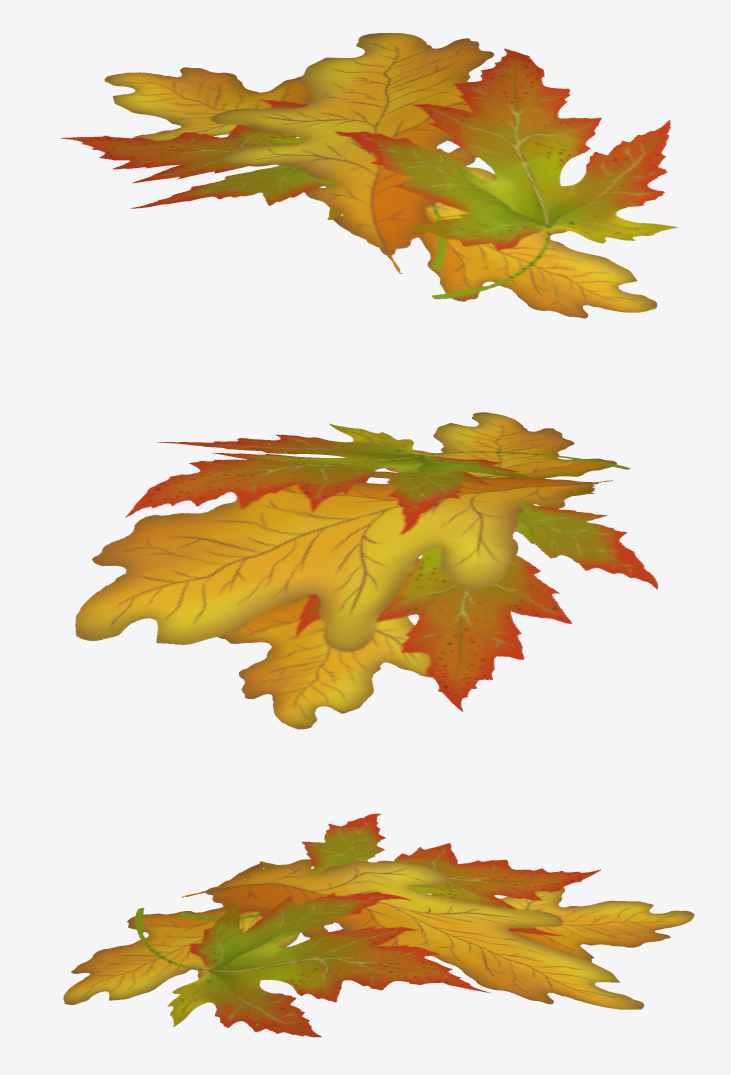
The model's file is dead_leaf_group_4.fbx.
3 renders of one model, top to bottom at view 1: azimuth 30°, elevation 25°; view 2: azimuth 150°, elevation 25°; view 3: azimuth 270°, elevation 25°, orthographic. The views are drawn at different scales.
Visible parts, largest first — view 1: dead_leaf_group_4; view 2: dead_leaf_group_4; view 3: dead_leaf_group_4.
Part boxes in pixels (left/top/right/bottom): dead_leaf_group_4: left=60, top=32, right=678, bottom=318; dead_leaf_group_4: left=75, top=412, right=658, bottom=729; dead_leaf_group_4: left=63, top=813, right=694, bottom=1037.
Bounding box in the file's own units: 50.27 × 6.08 × 63.36.
